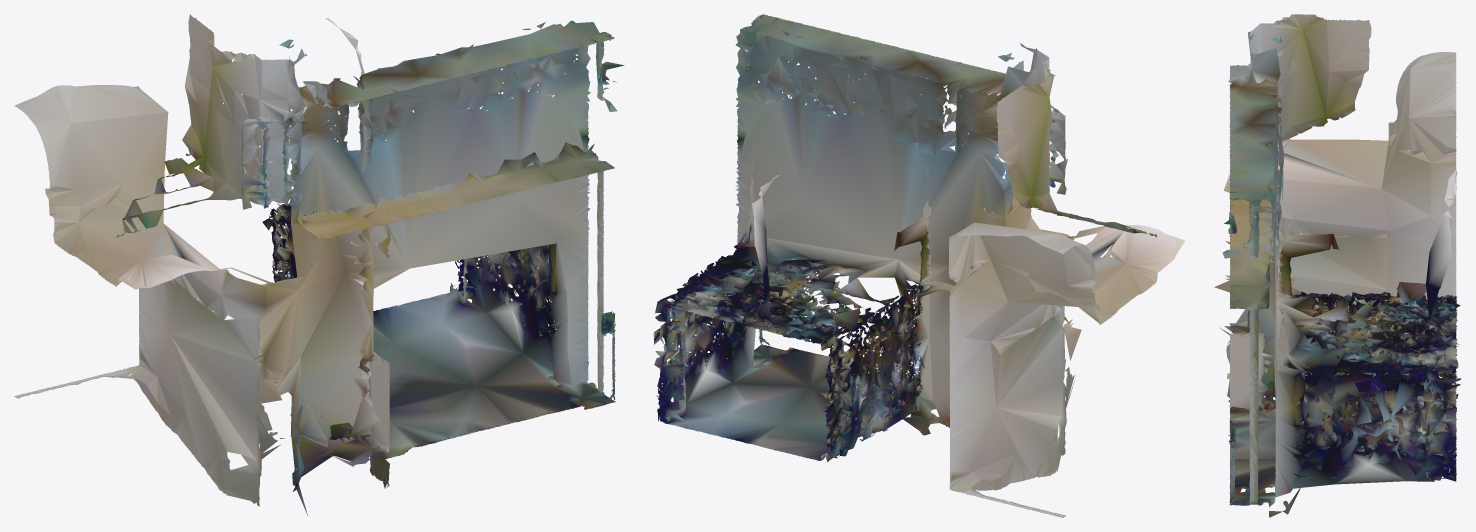
3 views of the same model, side by side, from view 1: azimuth 30°, elevation 25°; view 2: azimuth 150°, elevation 25°; view 3: azimuth 270°, elevation 25° (orthographic). The views are drawn at different scales.
Size of the model in its own units: 10.47 by 9.47 by 5.48.
